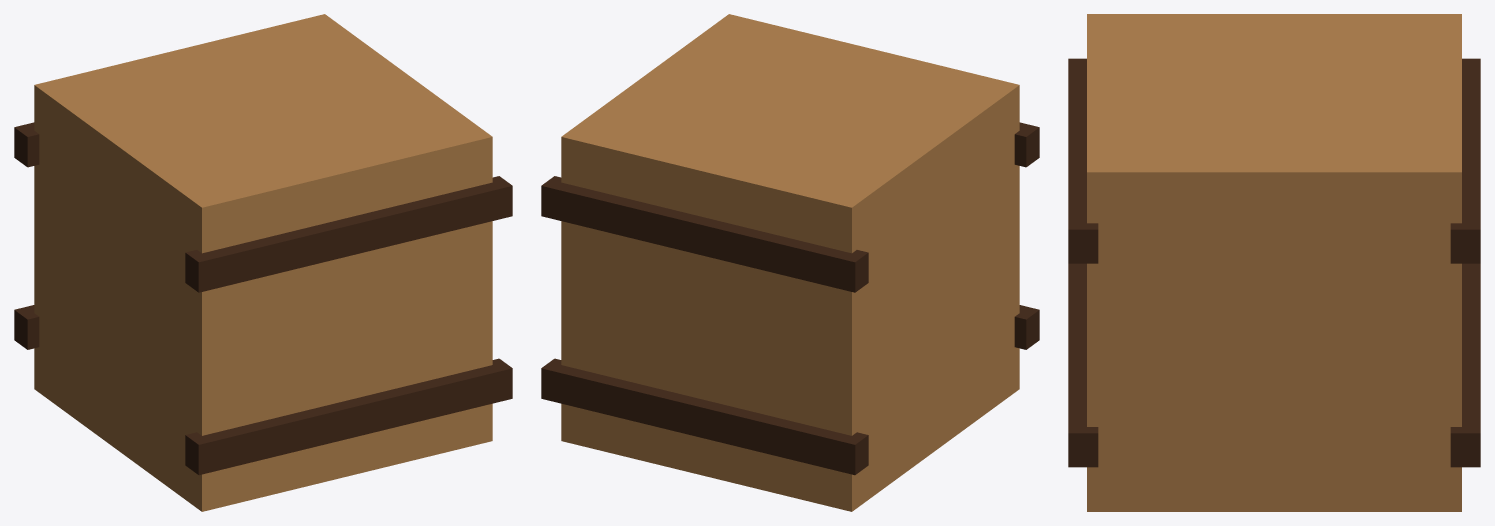
Rendered from crate.obj.
3 views of the same model, side by side, from view 1: azimuth 30°, elevation 25°; view 2: azimuth 150°, elevation 25°; view 3: azimuth 270°, elevation 25° (orthographic). The views are drawn at different scales.
Bounding box in the file's own units: 1.08 × 1 × 1.1.
2 materials, 2 textured.
